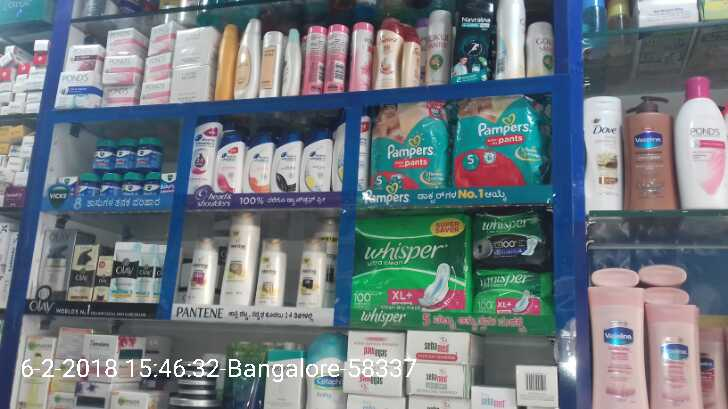vicks: (75, 133, 181, 203)
